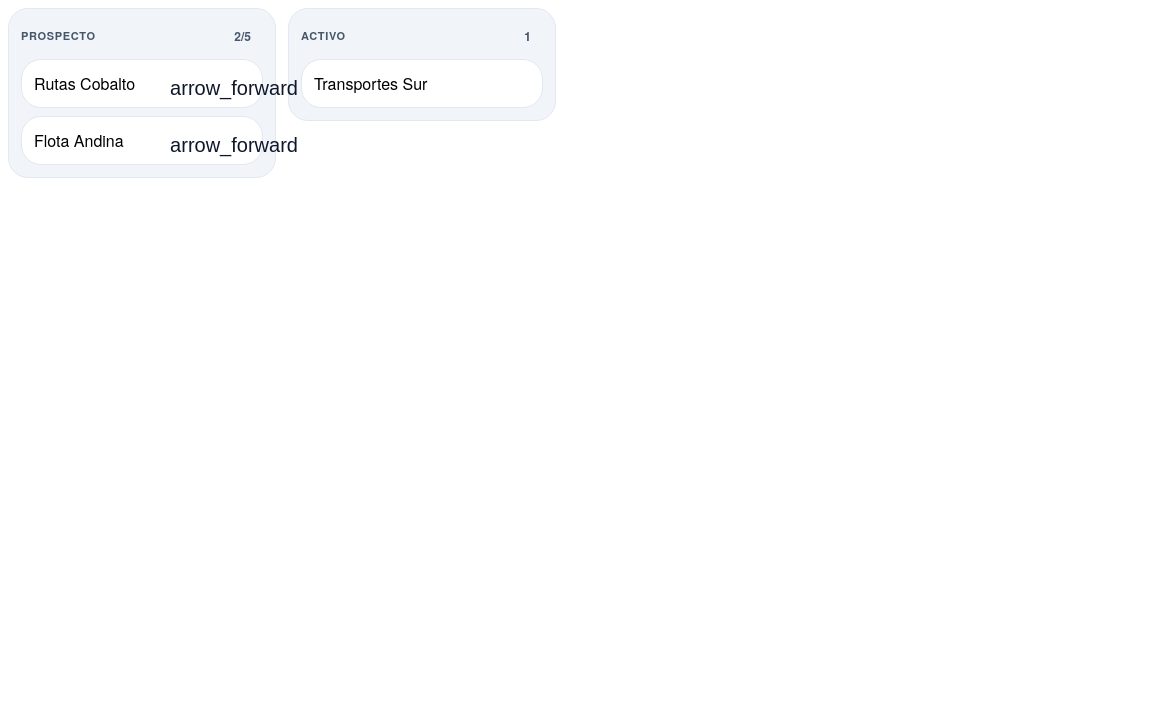
Test case: conformance canon · chart-kanban › kb-6: el panel de detalle hereda OverlayShell: dialogo modal que devuelve el foco
Click the button "Rutas Cobalto". click: (142, 84)
box: left=21, top=59, right=263, bottom=108
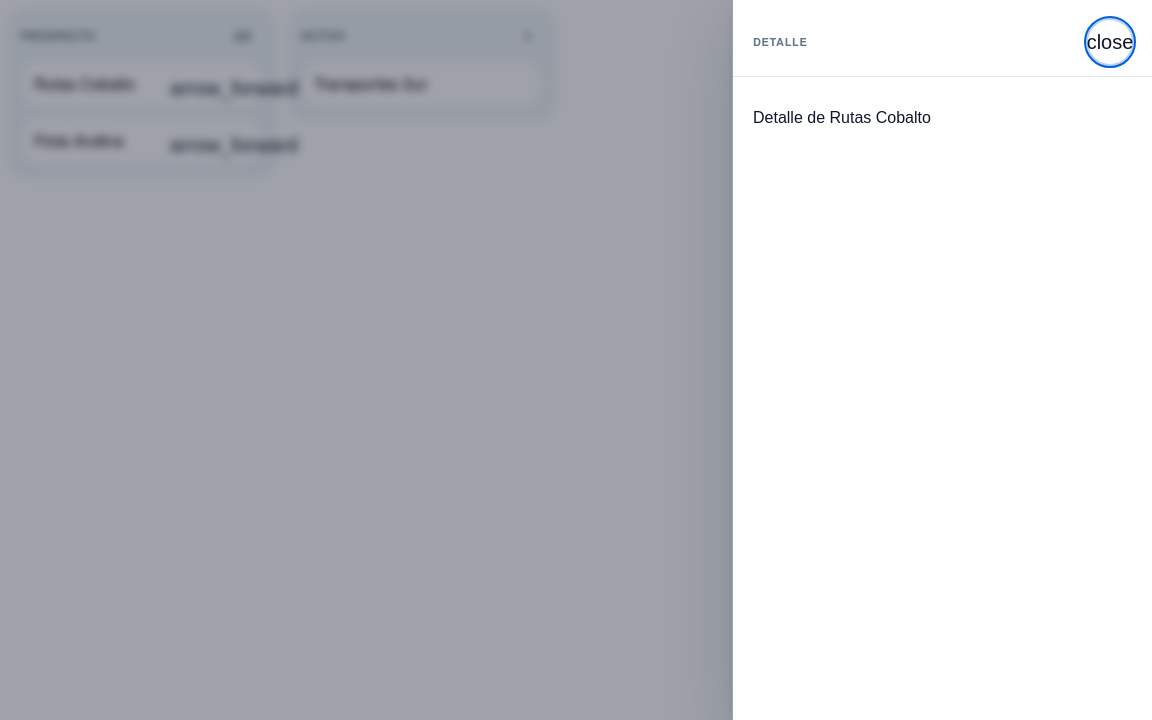
Check: the dialog shows "Detalle de Rutas Cobalto", box left=732, top=0, right=1151, bottom=719
Press Escape in the button named "Cerrar", box left=1088, top=20, right=1132, bottom=64
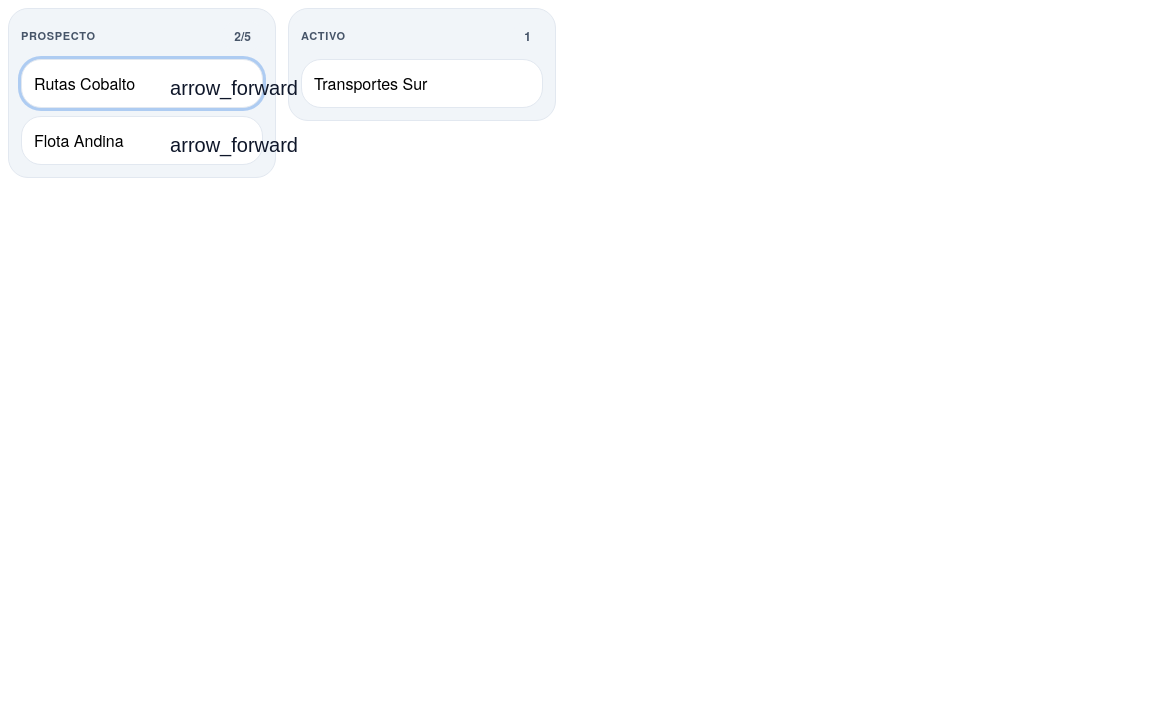
Check: the dialog is gone
